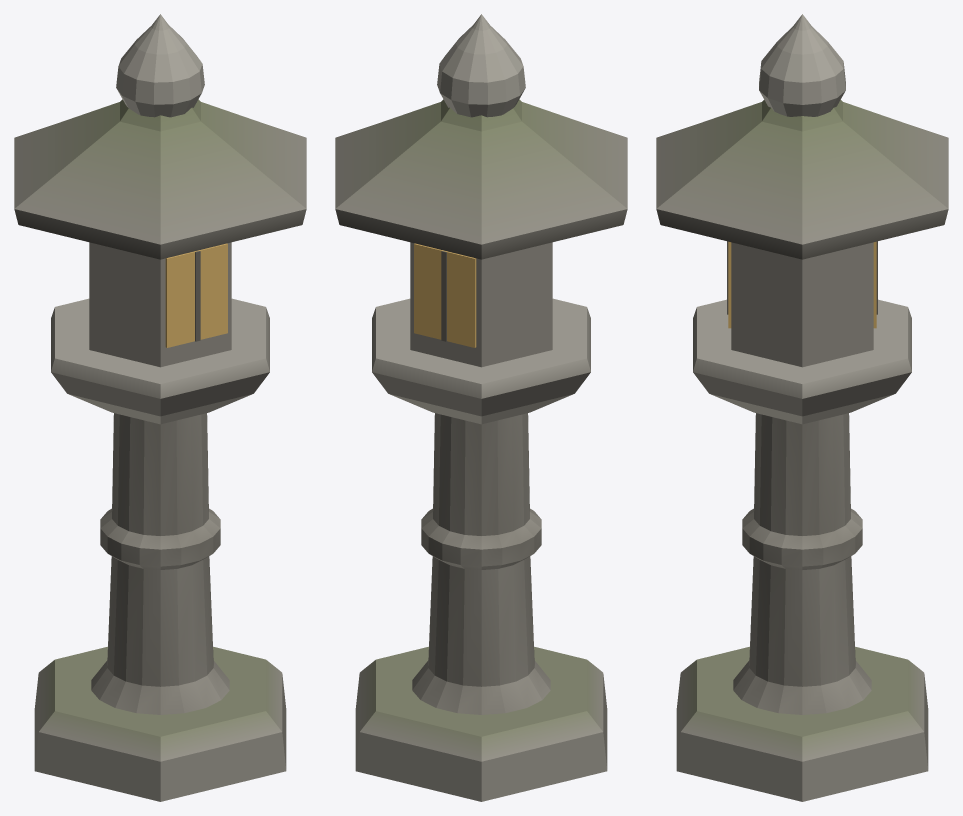
The model's file is Shrine_Lantern.fbx.
3 renders of one model, left to right at view 1: azimuth 30°, elevation 25°; view 2: azimuth 150°, elevation 25°; view 3: azimuth 270°, elevation 25°, orthographic.
Parts seen in each view (by area): view 1: Shrine_Lantern; view 2: Shrine_Lantern; view 3: Shrine_Lantern.
Boxes of the visible parts, x1,y1,x2,y2 form: Shrine_Lantern: [14, 14, 306, 801]; Shrine_Lantern: [335, 14, 627, 801]; Shrine_Lantern: [656, 14, 948, 801].
Size of the model in its own units: 7.2 by 17.1 by 6.24.
